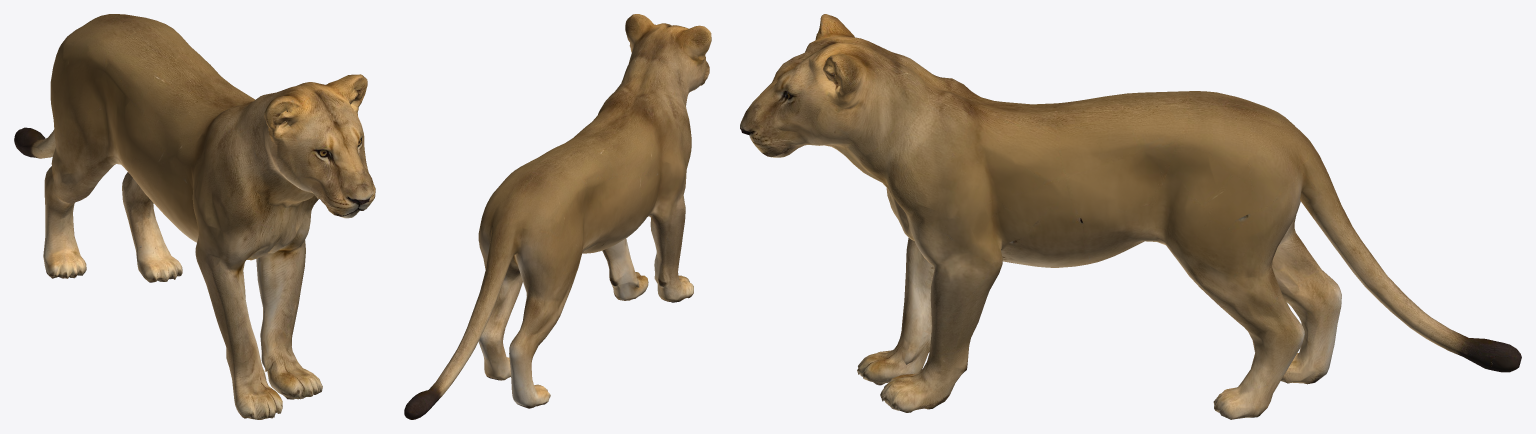
File: loewin.glb
The picture shows the model from 3 angles, left to right: view 1: azimuth 30°, elevation 25°; view 2: azimuth 150°, elevation 25°; view 3: azimuth 270°, elevation 25°; orthographic projection. The views are drawn at different scales.
Size of the model in its own units: 0.3657 by 0.9699 by 1.9.
Materials: 1 (1 with a texture image).
